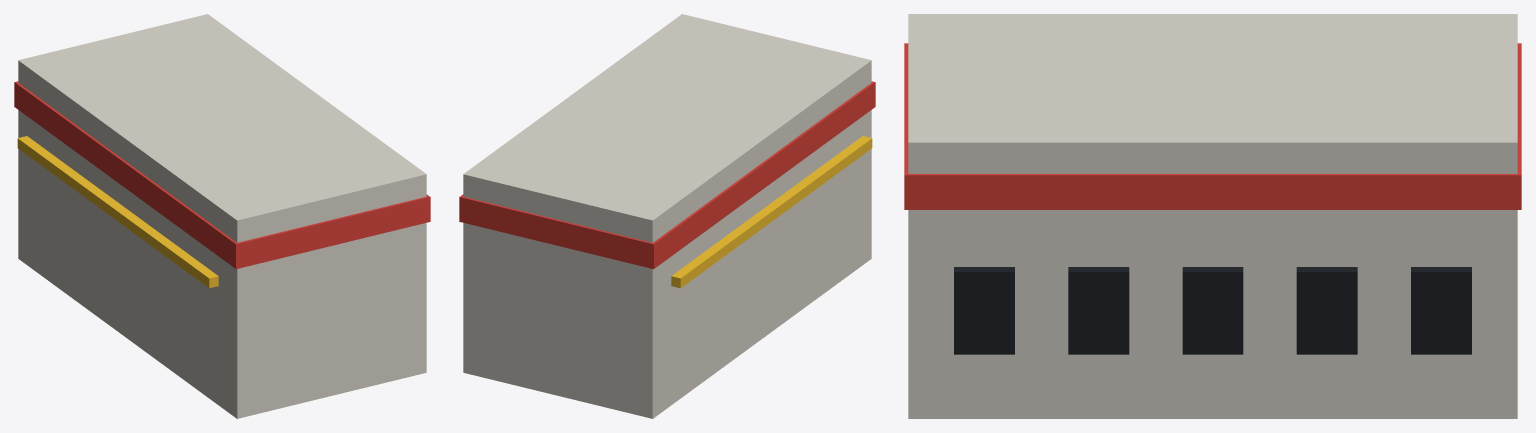
Rendered from robot_forearm_segment.glb.
The picture shows the model from 3 angles, left to right: view 1: azimuth 30°, elevation 25°; view 2: azimuth 150°, elevation 25°; view 3: azimuth 270°, elevation 25°; orthographic projection. The views are drawn at different scales.
Parts seen in each view (by area): view 1: robot_forearm_segment_armor, robot_forearm_segment_red, robot_forearm_segment_yellow; view 2: robot_forearm_segment_armor, robot_forearm_segment_red, robot_forearm_segment_yellow; view 3: robot_forearm_segment_armor, robot_forearm_segment_black, robot_forearm_segment_red.
Boxes of the visible parts, <box> form: robot_forearm_segment_armor: <box>18,14,426,418</box>; robot_forearm_segment_red: <box>14,81,430,269</box>; robot_forearm_segment_yellow: <box>17,136,218,288</box>; robot_forearm_segment_armor: <box>463,14,871,418</box>; robot_forearm_segment_red: <box>459,81,875,269</box>; robot_forearm_segment_yellow: <box>671,136,872,288</box>; robot_forearm_segment_armor: <box>908,14,1517,418</box>; robot_forearm_segment_black: <box>954,267,1471,354</box>; robot_forearm_segment_red: <box>904,43,1521,209</box>.
Bounding box in the file's own units: 4.45 × 4 × 8.1.
